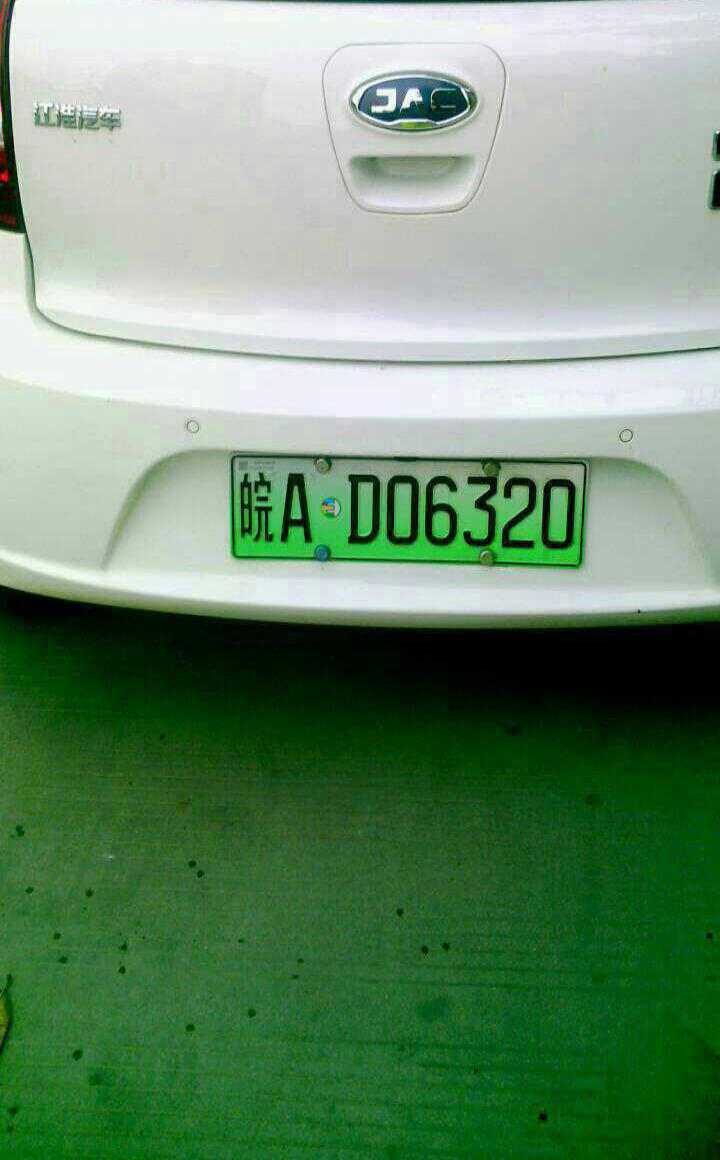car_id: (232, 456, 583, 565)
